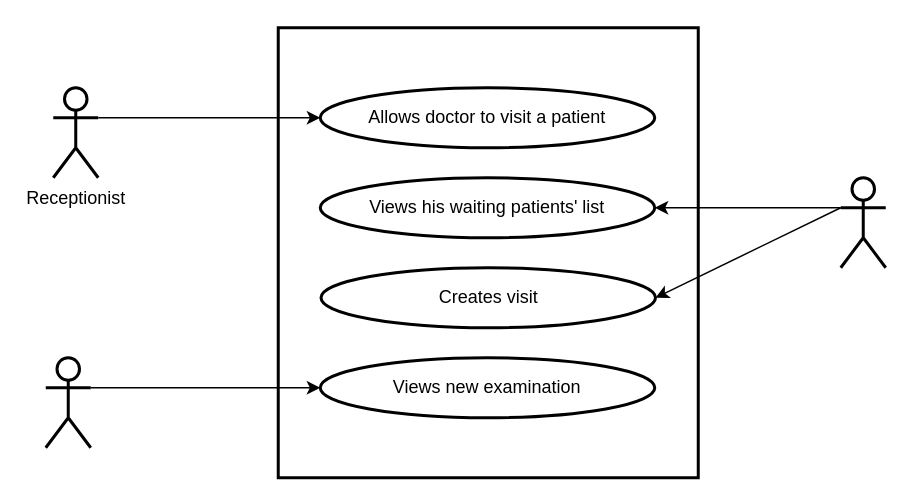
The diagram is 915 pixels wide and 504 high, and some of its shapes have lost their labels. Here are the shapes that lost their labels. From the top down, the box of each, then its label:
(838, 176, 886, 268): Doctor
(44, 356, 92, 448): Patient
